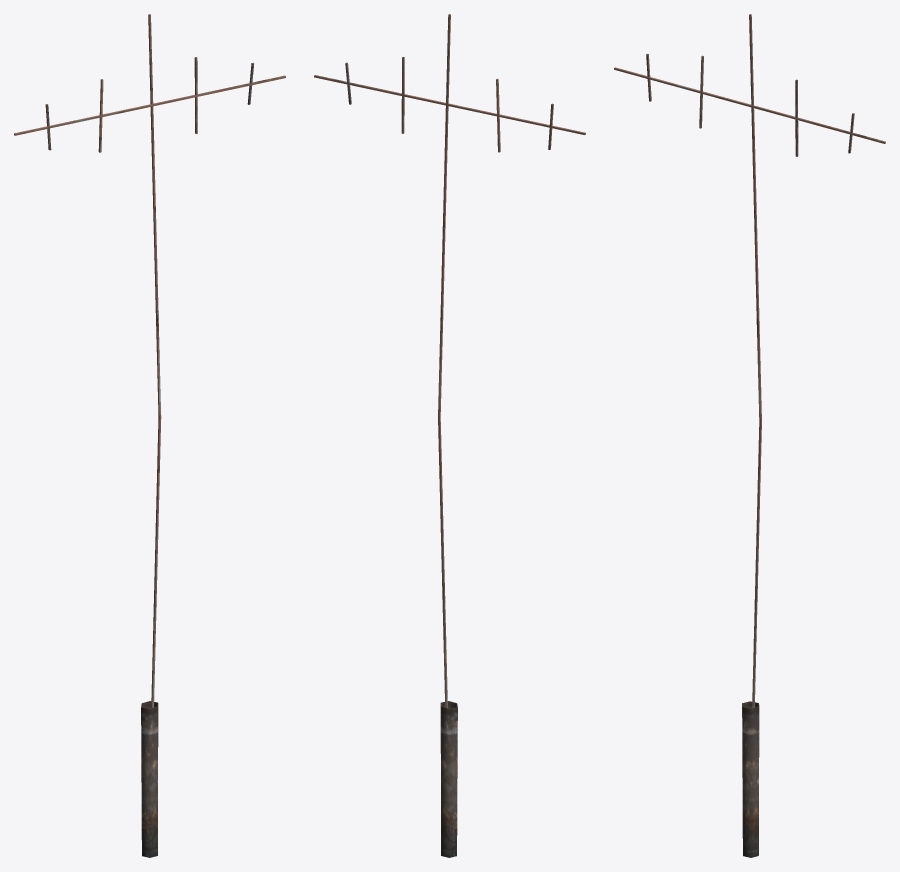
Rendered from Aerial_02.fbx.
The picture shows the model from 3 angles, left to right: view 1: azimuth 30°, elevation 25°; view 2: azimuth 150°, elevation 25°; view 3: azimuth 330°, elevation 25°; orthographic projection.
Parts seen in each view (by area): view 1: Aerial_02; view 2: Aerial_02; view 3: Aerial_02.
Part boxes in pixels (bbox=[...]): Aerial_02: bbox=[14, 14, 285, 857]; Aerial_02: bbox=[314, 14, 585, 857]; Aerial_02: bbox=[614, 14, 885, 857].
Size of the model in its own units: 148 by 7.4 by 438.
1 material, 1 textured.
